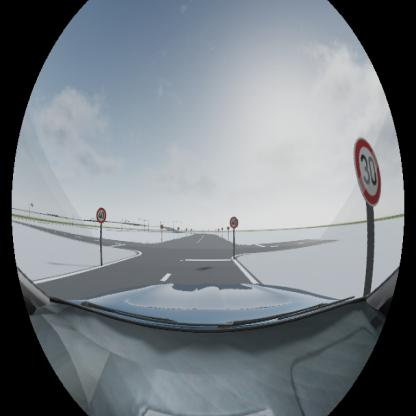Speed Limit 40: (97, 208, 106, 223), (230, 216, 238, 228)
